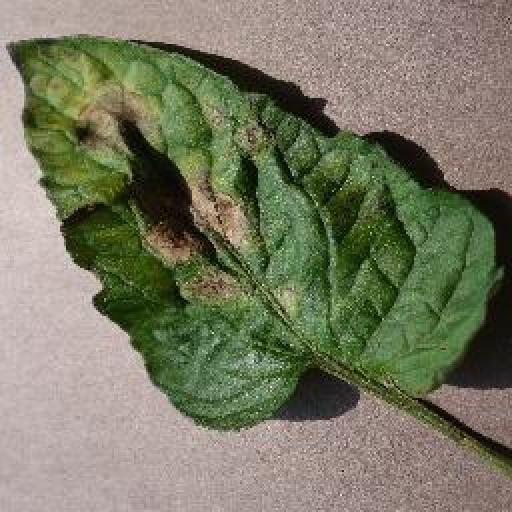Late Blight: (4, 32, 500, 439)
